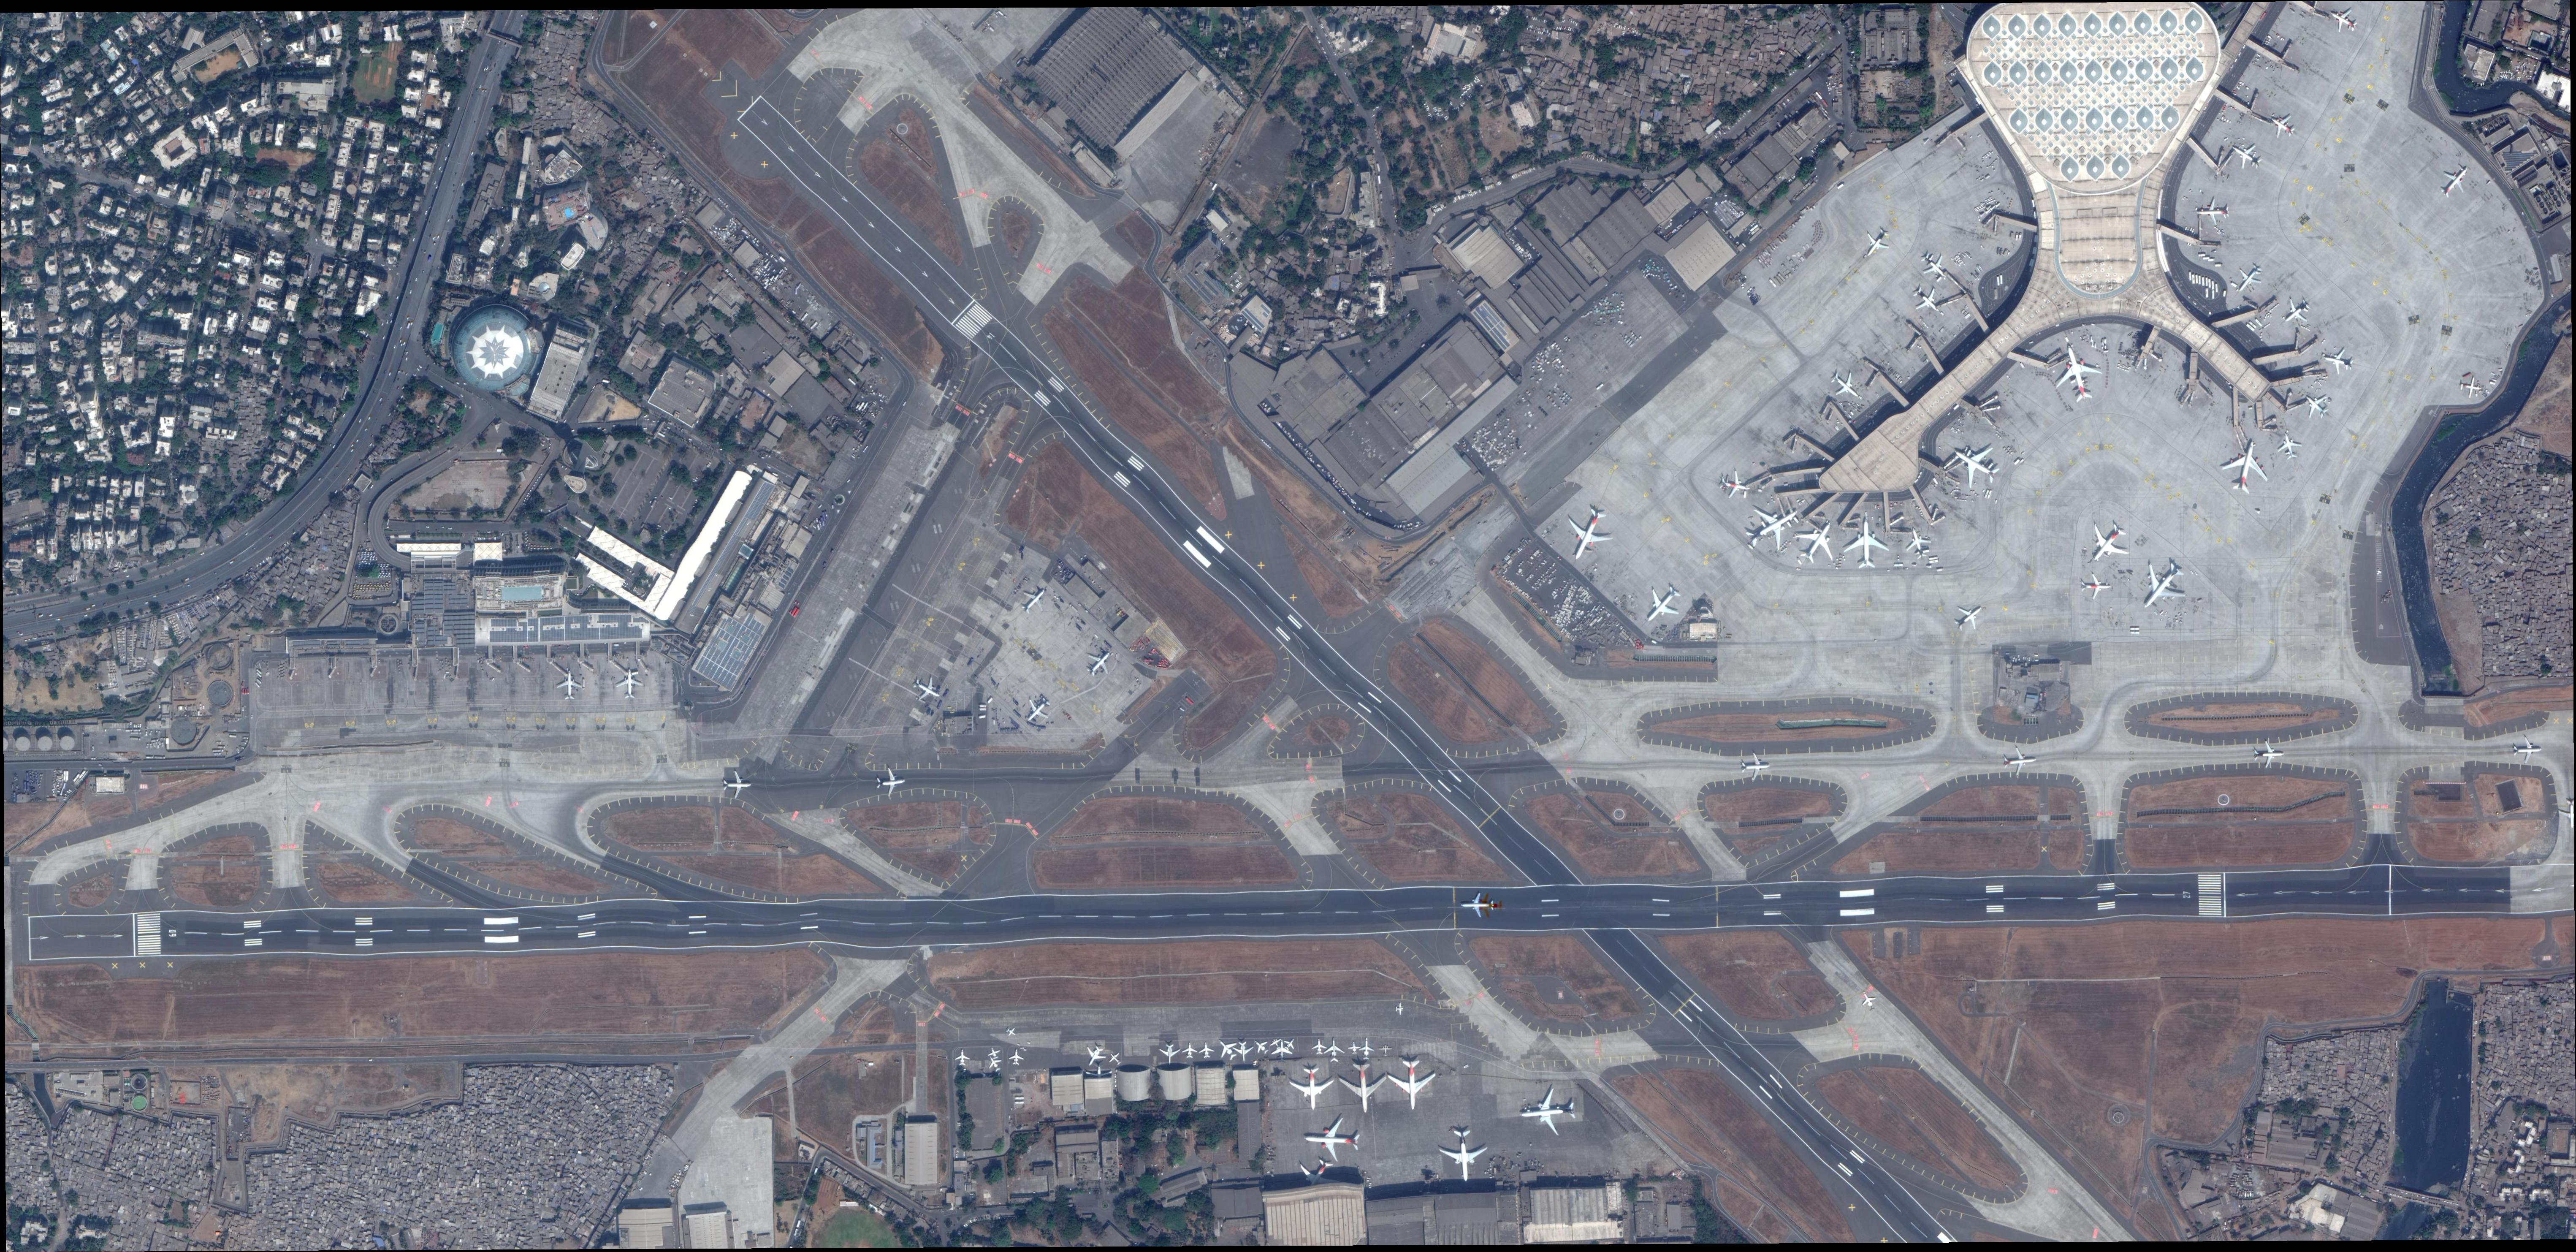plane: (1548, 493, 1630, 575), (2123, 545, 2201, 628), (1733, 486, 1810, 565), (1779, 506, 1850, 580), (2042, 337, 2111, 411), (2210, 429, 2277, 504), (1940, 429, 2009, 499), (2073, 509, 2141, 582), (1434, 1124, 1495, 1188), (1285, 1147, 1352, 1203), (1635, 572, 1692, 636), (1518, 1088, 1584, 1142), (1303, 1117, 1364, 1167), (1385, 1058, 1437, 1114), (1337, 1061, 1390, 1117), (1842, 514, 1891, 570), (1286, 1065, 1337, 1114), (1944, 593, 1991, 642), (1902, 276, 1950, 325), (2433, 156, 2479, 207), (1822, 361, 1870, 409), (1853, 220, 1897, 269), (1010, 577, 1055, 624), (1912, 243, 1957, 289), (2226, 255, 2270, 301), (1076, 641, 1120, 685), (2224, 133, 2267, 177), (2293, 383, 2336, 427), (1015, 688, 1058, 733), (1897, 521, 1939, 564), (2275, 291, 2316, 332), (907, 669, 946, 711), (2323, 2, 2362, 39), (2264, 105, 2300, 146), (1999, 744, 2040, 780), (2320, 343, 2357, 381), (1717, 465, 1753, 504), (871, 764, 910, 800), (2251, 738, 2290, 772), (2510, 731, 2545, 769), (2272, 427, 2307, 463), (1078, 1037, 1112, 1073), (1738, 751, 1774, 784), (1459, 892, 1498, 922), (721, 769, 756, 802), (1211, 1032, 1244, 1065), (2195, 197, 2231, 227), (2078, 572, 2113, 601), (616, 667, 646, 700), (555, 669, 585, 700), (1855, 986, 1881, 1014), (2458, 373, 2484, 401), (1268, 1037, 1293, 1065), (1230, 1038, 1255, 1065), (1322, 1037, 1345, 1065), (2558, 797, 2574, 831), (1250, 1035, 1273, 1058), (1357, 1035, 1375, 1063), (1160, 1043, 1181, 1066), (982, 1053, 1005, 1075), (1104, 1048, 1125, 1068), (1196, 1040, 1216, 1060), (954, 1048, 973, 1068), (984, 1045, 1004, 1063), (1002, 1022, 1020, 1042), (1281, 1033, 1299, 1053), (1267, 1035, 1286, 1053), (1181, 1040, 1198, 1060), (1311, 1037, 1327, 1056), (1009, 1047, 1023, 1066), (1345, 1040, 1362, 1055), (1378, 1043, 1393, 1058), (1395, 1002, 1406, 1017)
